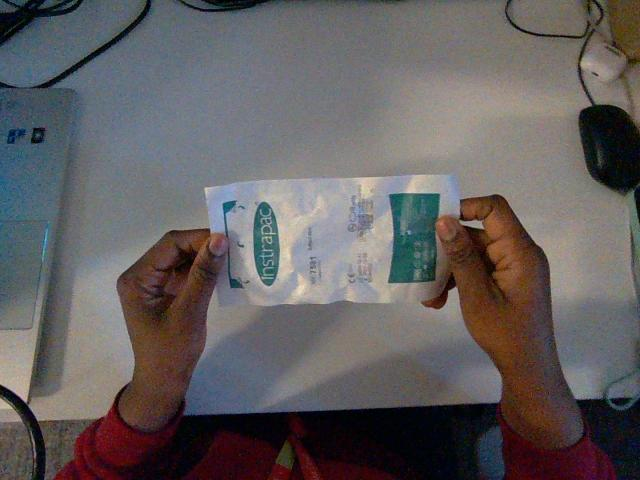gallipot: (205, 175, 459, 305)
